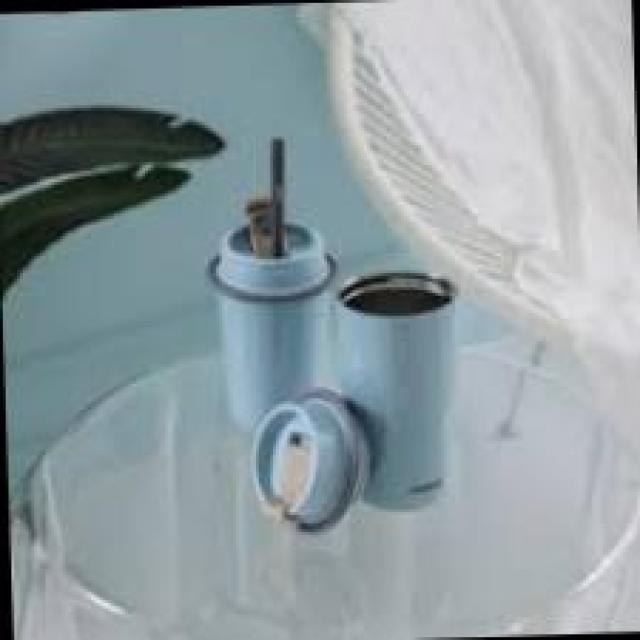bottle: (322, 256, 466, 521), (199, 202, 341, 432)
